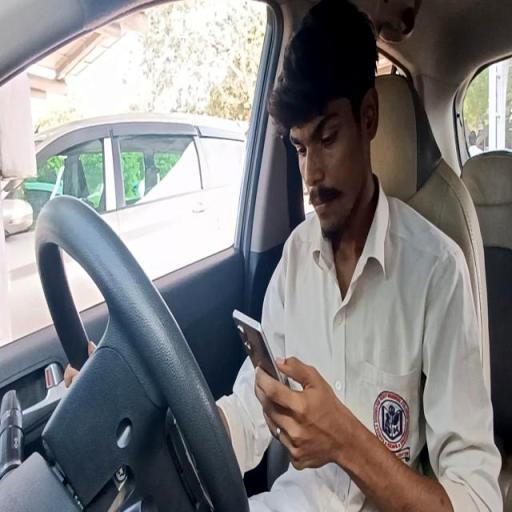Texting_on_phone: (227, 1, 501, 512)
